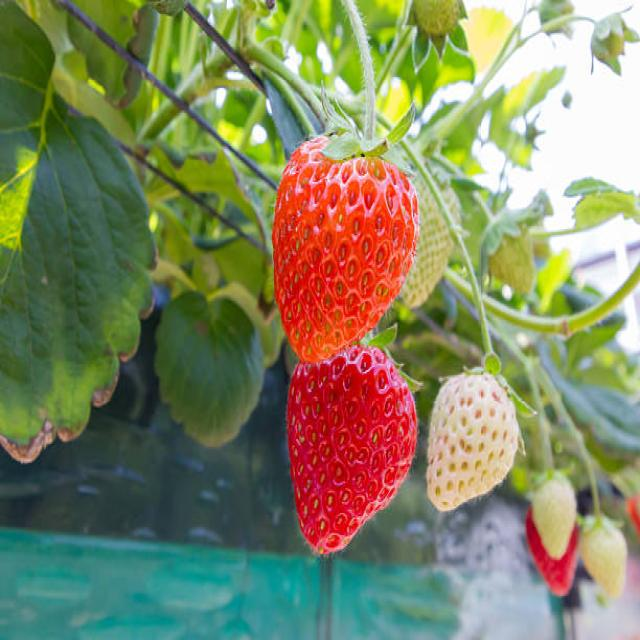Healthy Fruit: (272, 137, 418, 363), (288, 347, 417, 557), (427, 369, 519, 514)
